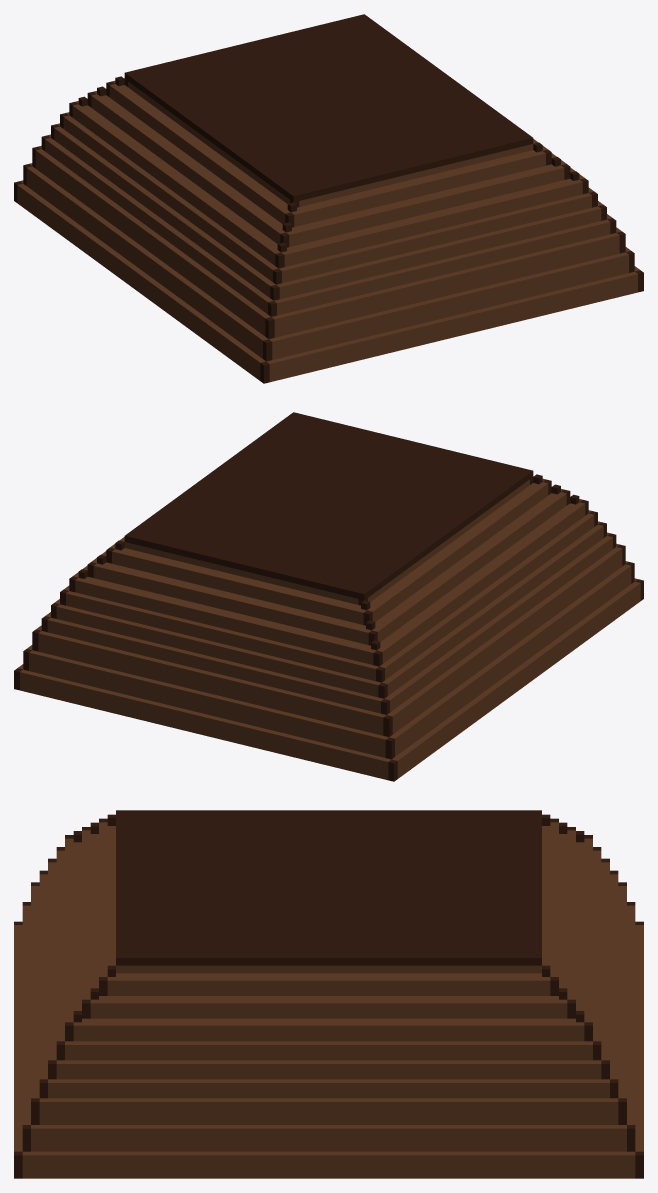
File: roof_simple_brown_cube.glb
3 renders of one model, top to bottom at view 1: azimuth 30°, elevation 25°; view 2: azimuth 150°, elevation 25°; view 3: azimuth 270°, elevation 25°, orthographic. The views are drawn at different scales.
Visible parts, largest first — view 1: roof_simple_brown_cube; view 2: roof_simple_brown_cube; view 3: roof_simple_brown_cube.
Part boxes in pixels (x1,y1,x2,y2): roof_simple_brown_cube: [14, 14, 643, 383]; roof_simple_brown_cube: [14, 412, 643, 781]; roof_simple_brown_cube: [14, 810, 643, 1178].
Size of the model in its own units: 6.5 by 2.3 by 7.4.
Materials: 1 (1 with a texture image).
